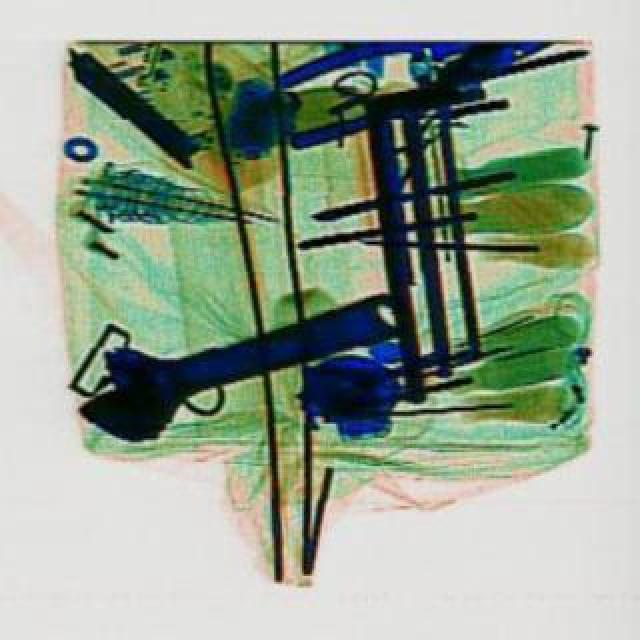scissors: (66, 266, 426, 462)
wrench: (270, 4, 558, 158)
